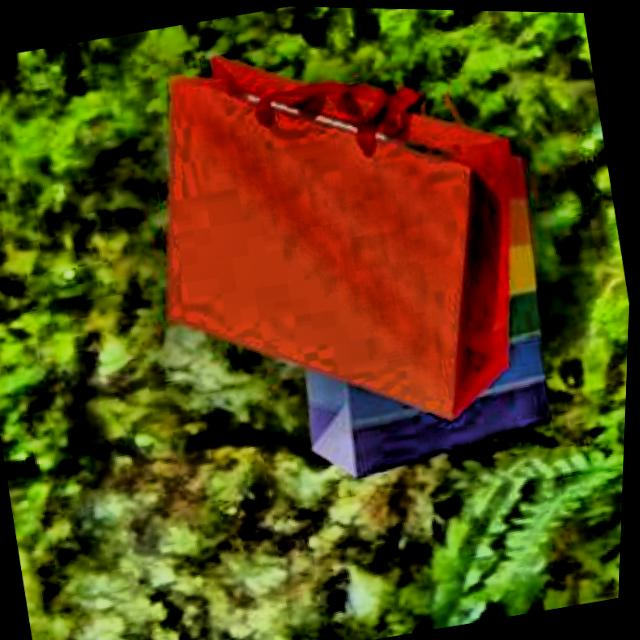Paper-bag: (89, 2, 540, 459), (244, 120, 595, 484)
